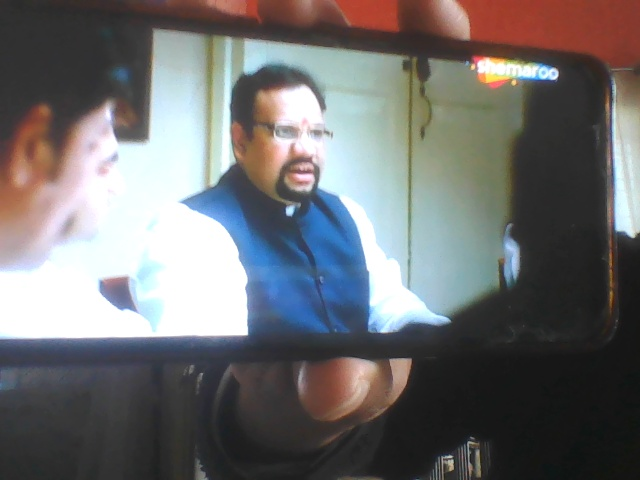fake: (230, 54, 342, 213)
